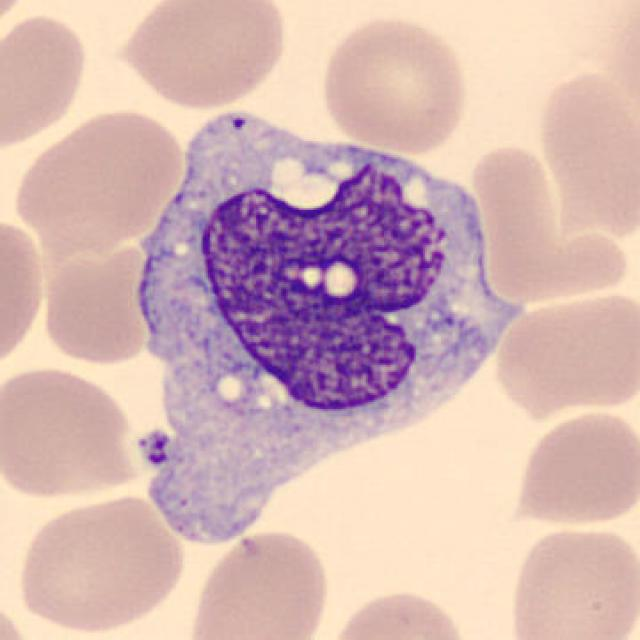Monocyte: (114, 99, 519, 525)
RBC: (9, 104, 188, 254), (11, 490, 190, 637), (316, 10, 473, 157), (0, 362, 144, 502), (112, 0, 290, 111), (489, 286, 638, 418), (532, 65, 638, 236), (185, 525, 334, 640), (466, 138, 569, 303), (503, 518, 638, 640), (508, 406, 638, 532), (37, 238, 153, 370), (0, 9, 91, 155), (321, 583, 474, 640), (0, 212, 48, 377)
